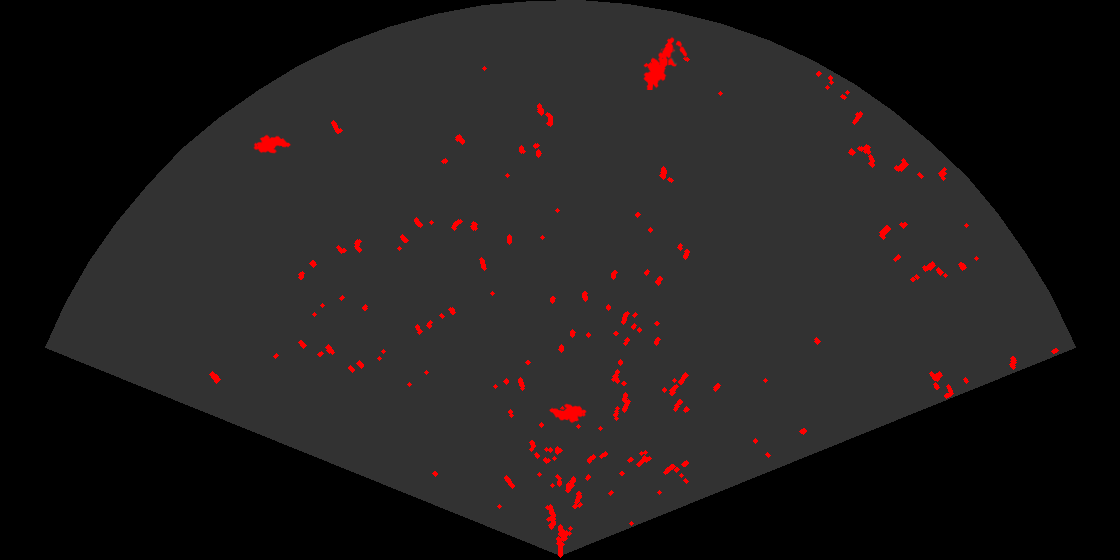AUV: (547, 402, 588, 425), (252, 133, 293, 155)
ball: (658, 39, 689, 68)
frogman: (642, 35, 676, 90)
